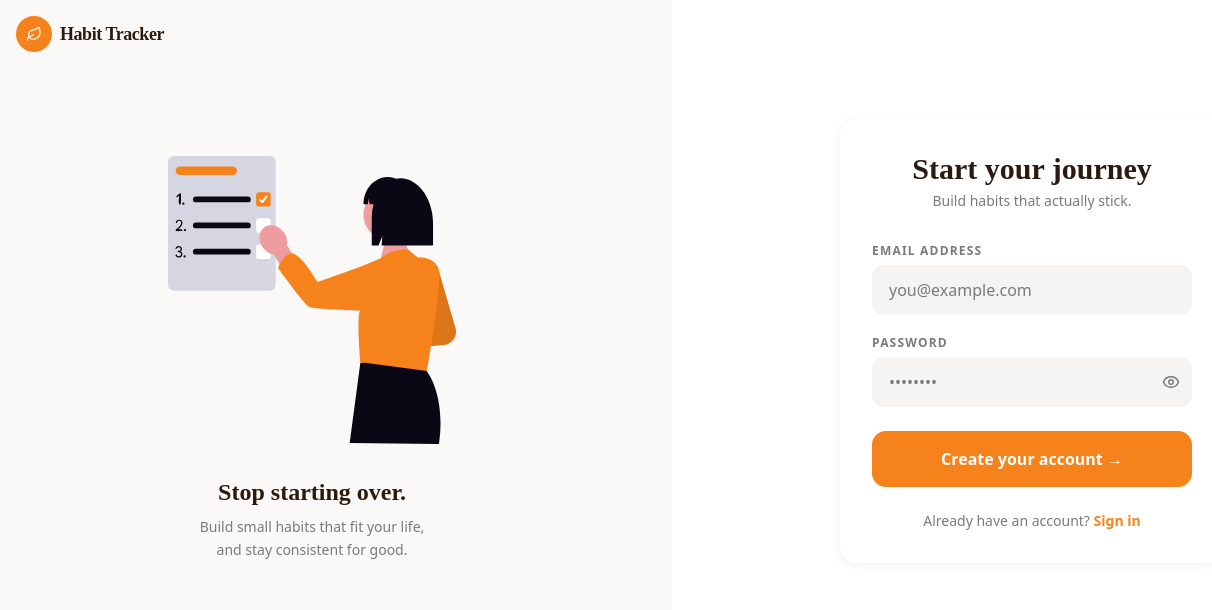
auth flow › shows an error for duplicate signup email
In the field with test id "auth-signup-email": (1032, 290) [872,265,1192,315], type "existing@test.com"
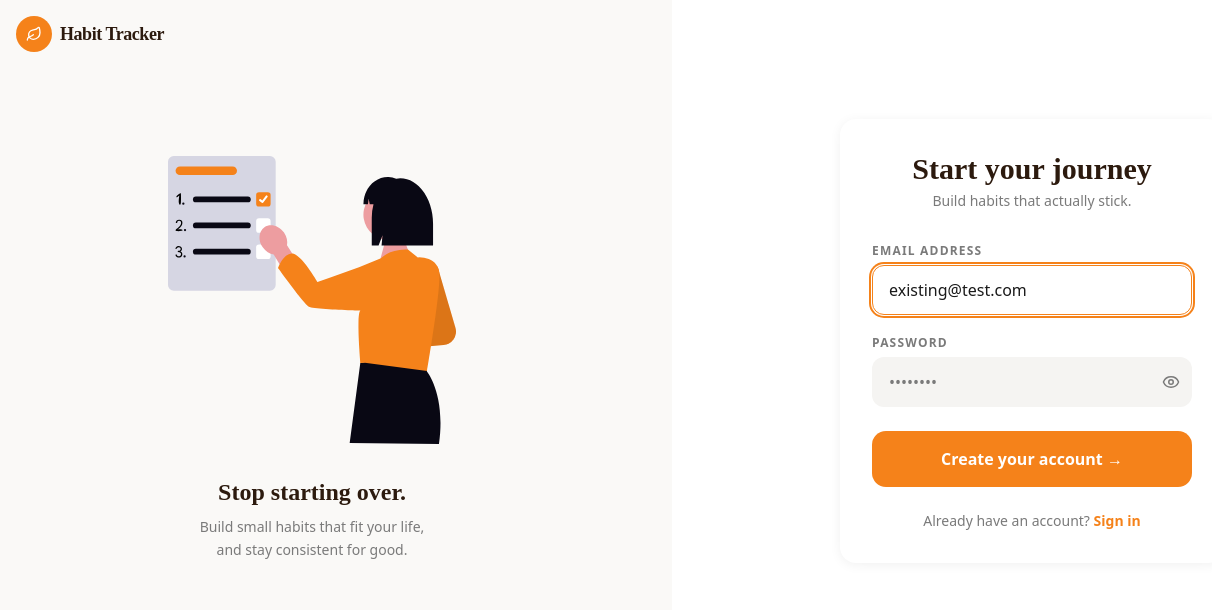
In the password field with test id "auth-signup-password": (1032, 382) [872,357,1192,407], type "Password1"
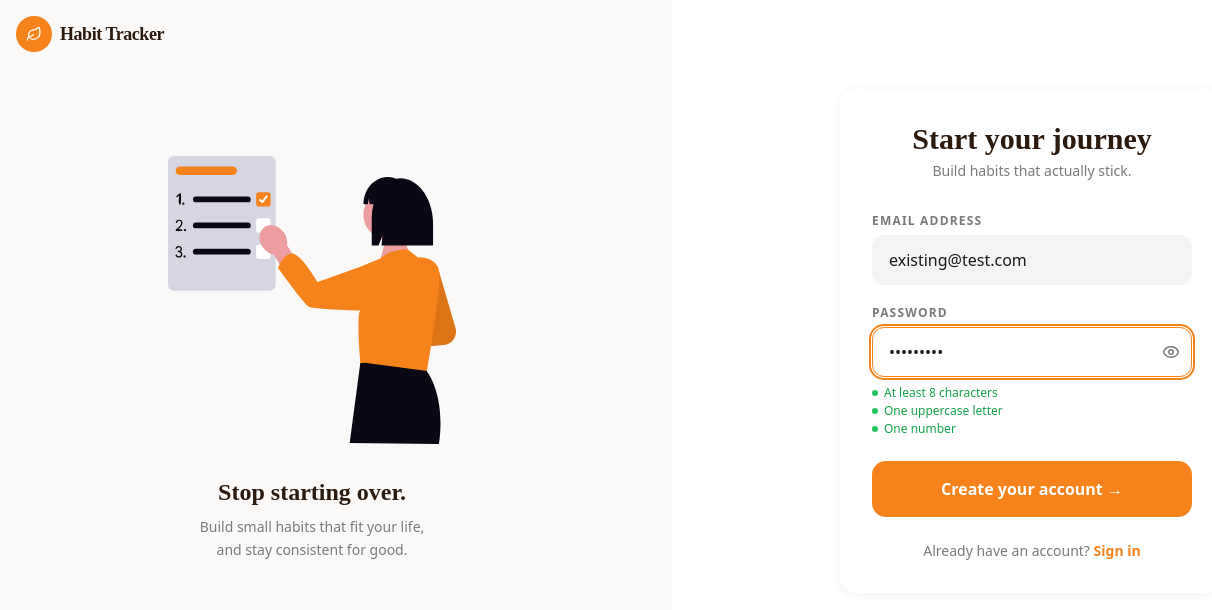
Click the button with test id "auth-signup-submit": (1032, 489) [872,461,1192,517]
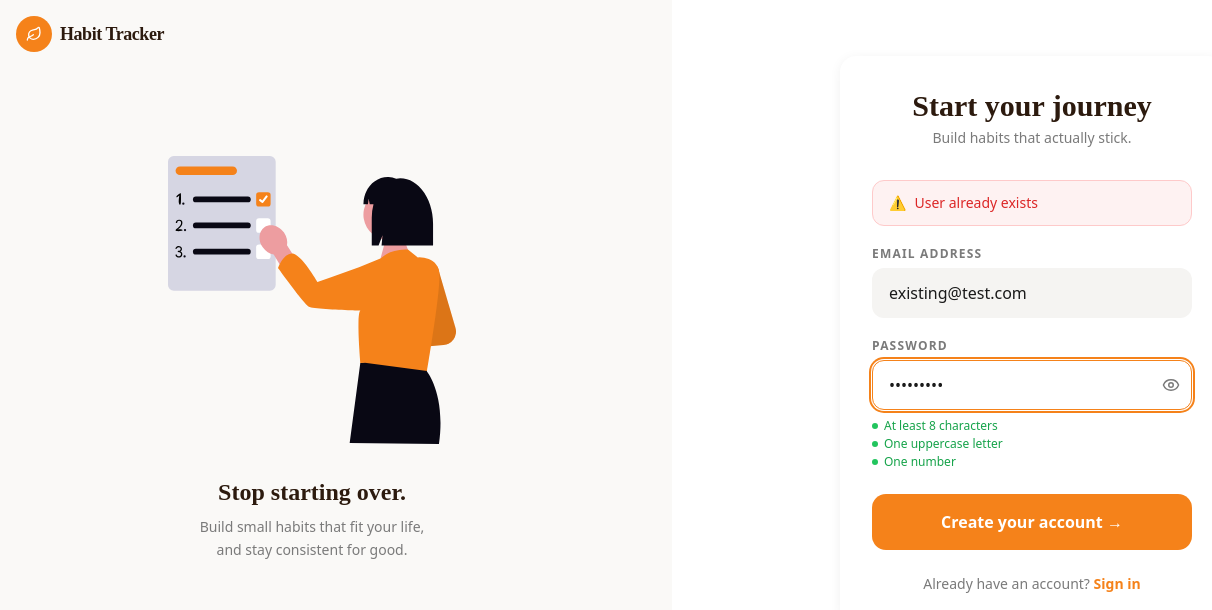
Now the message shows "User already exists", box [914,193,1038,212]
